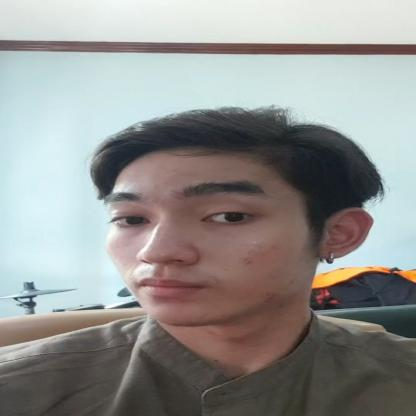Palm: (59, 102, 382, 336)
